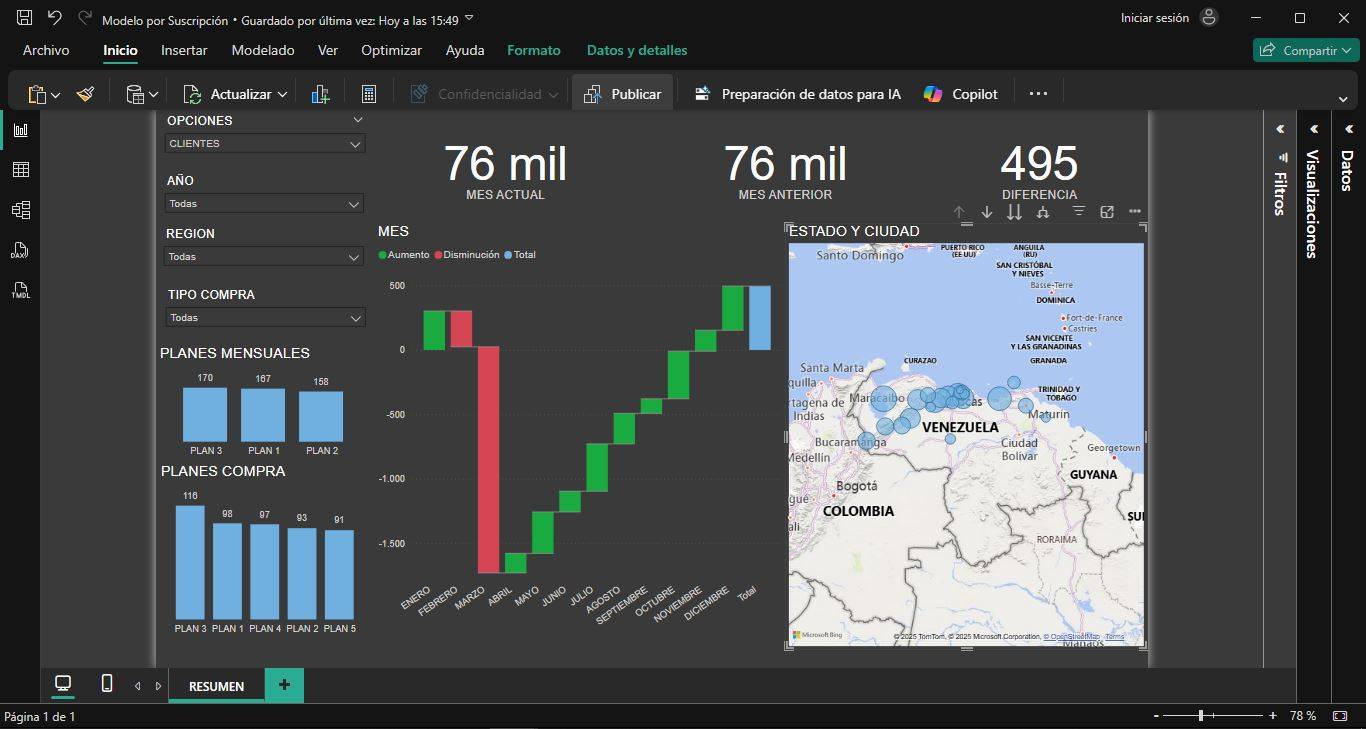

The dashboard page shown, as its layout file describes it:
{"tool":"powerbi","page":{"name":"RESUMEN","canvas":[1280,720],"ordinal":0},"visuals":[{"type":"slicer","fields":{"Values":["CALENDARIO.AÑO"]},"box":[1.4,77.1,276.6,97.7],"z":0},{"type":"slicer","fields":{"Values":["CAMPOS.OPCIONES"]},"box":[1.6,0,278.6,77],"z":1000},{"type":"card","fields":{"Values":["MEDIDAS.SW_ACTUAL"]},"box":[311.4,0,280.3,145.9],"z":2000},{"type":"card","fields":{"Values":["MEDIDAS.SW_ANTERIOR"]},"box":[672,0,280.3,145.9],"z":3000},{"type":"card","fields":{"Values":["MEDIDAS.SW_DIF"]},"box":[999.7,0,280.3,145.9],"z":4000},{"type":"waterfallChart","title":"MES","fields":{"Category":["CALENDARIO.MES"],"Y":["MEDIDAS.SW_DIF"]},"box":[280.8,145.9,531.3,539.5],"z":5000},{"type":"slicer","fields":{"Values":["CIUDADES.REGION"]},"box":[0,145.9,278,78.5],"z":6000},{"type":"map","title":"ESTADO Y CIUDAD","fields":{"Category":["CIUDADES.Personalizado","CIUDADES.ESTADO"],"Size":["MEDIDAS.SW_DIF"]},"box":[812,145.9,468,550.5],"z":7000},{"type":"columnChart","title":"PLANES MENSUALES","fields":{"Category":["PLAN_MENSUAL.PLAN"],"Y":["MEDIDAS.SW_DIF"]},"box":[0,302.8,279.4,152.8],"z":8000},{"type":"slicer","fields":{"Values":["TABLA CALCULOS.TIPO COMPRA"]},"box":[2.8,224.3,278,78.5],"z":9000},{"type":"columnChart","title":"PLANES COMPRA","fields":{"Y":["MEDIDAS.SW_DIF"],"Category":["PLAN_COMPRA.PLAN"]},"box":[1.4,455.6,279.4,229.8],"z":10000}]}

Visuals, with their boxes on the page's 1280x720 design canvas (x1, y1, x2, y2). These are canvas units, not pixel positions in the 1366x729 screenshot, which may show the page scaled, cropped or inside an application window:
slicer - CALENDARIO.AÑO: 1,77,278,175
slicer - CAMPOS.OPCIONES: 2,0,280,77
card - MEDIDAS.SW_ACTUAL: 311,0,592,146
card - MEDIDAS.SW_ANTERIOR: 672,0,952,146
card - MEDIDAS.SW_DIF: 1000,0,1280,146
"MES" waterfallChart: 281,146,812,685
slicer - CIUDADES.REGION: 0,146,278,224
"ESTADO Y CIUDAD" map: 812,146,1280,696
"PLANES MENSUALES" columnChart: 0,303,279,456
slicer - TABLA CALCULOS.TIPO COMPRA: 3,224,281,303
"PLANES COMPRA" columnChart: 1,456,281,685
